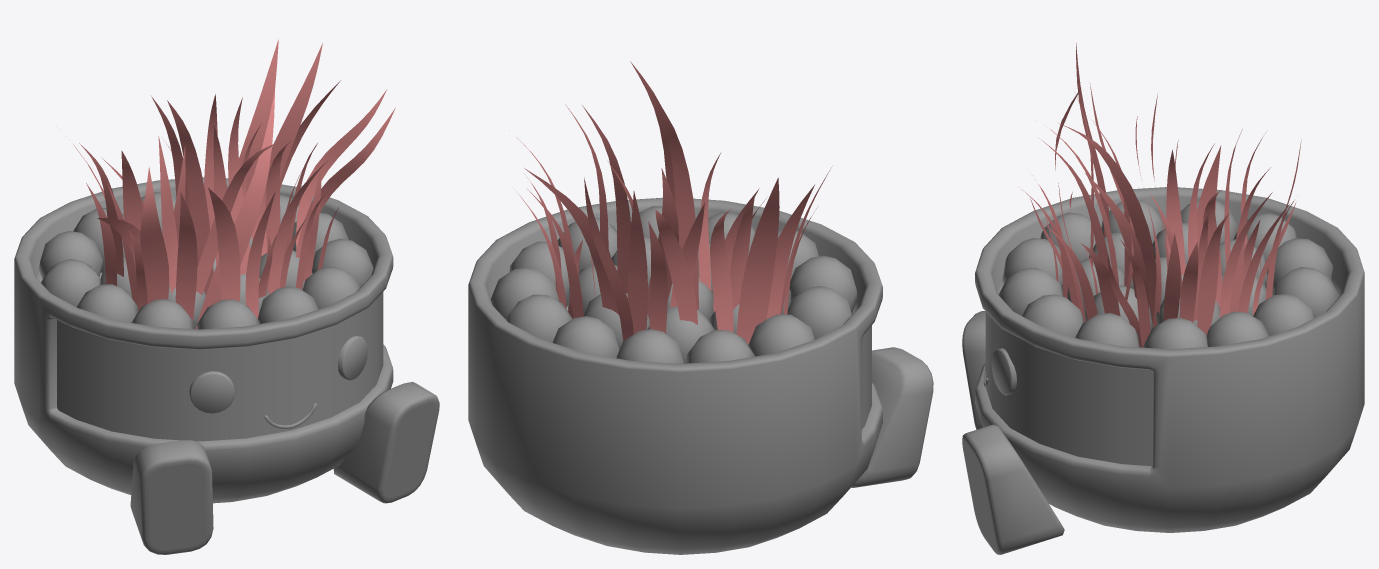
Rendered from S_Evni_Wlbl_Botany_02a.gltf.
3 renders of one model, left to right at view 1: azimuth 30°, elevation 25°; view 2: azimuth 150°, elevation 25°; view 3: azimuth 270°, elevation 25°, orthographic. The views are drawn at different scales.
Parts seen in each view (by area): view 1: S_Evni_Wlbl_Botany_02a; view 2: S_Evni_Wlbl_Botany_02a; view 3: S_Evni_Wlbl_Botany_02a.
Boxes of the visible parts, box(x1,y1,x2,y2) form: S_Evni_Wlbl_Botany_02a: box(14, 39, 439, 554); S_Evni_Wlbl_Botany_02a: box(468, 61, 933, 554); S_Evni_Wlbl_Botany_02a: box(962, 43, 1364, 554).
Size of the model in its own units: 0.0957 by 0.1189 by 0.0963.
